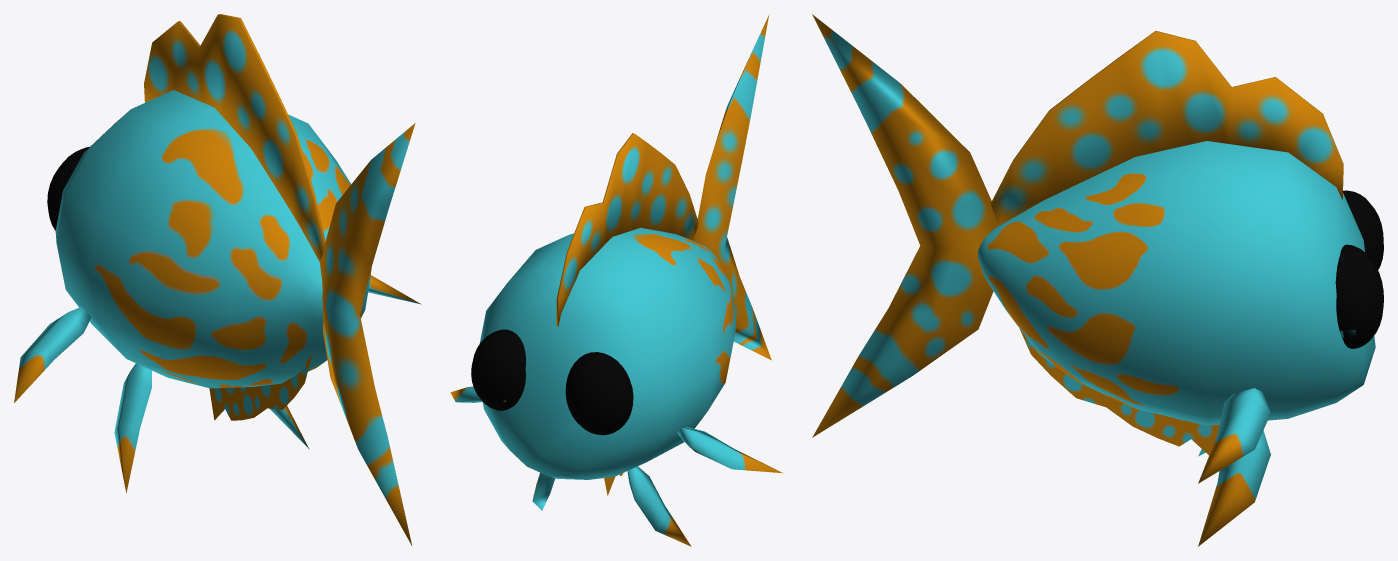
The model's file is PeixeComCor.obj.
3 renders of one model, left to right at view 1: azimuth 30°, elevation 25°; view 2: azimuth 150°, elevation 25°; view 3: azimuth 270°, elevation 25°, orthographic. The views are drawn at different scales.
Parts seen in each view (by area): view 1: Cube.001; view 2: Cube.001; view 3: Cube.001.
Part boxes in pixels (x1,y1,x2,y2): Cube.001: (14, 14, 421, 545); Cube.001: (450, 14, 782, 546); Cube.001: (812, 14, 1383, 546).
Bounding box in the file's own units: 1.6 × 1.83 × 1.93.
